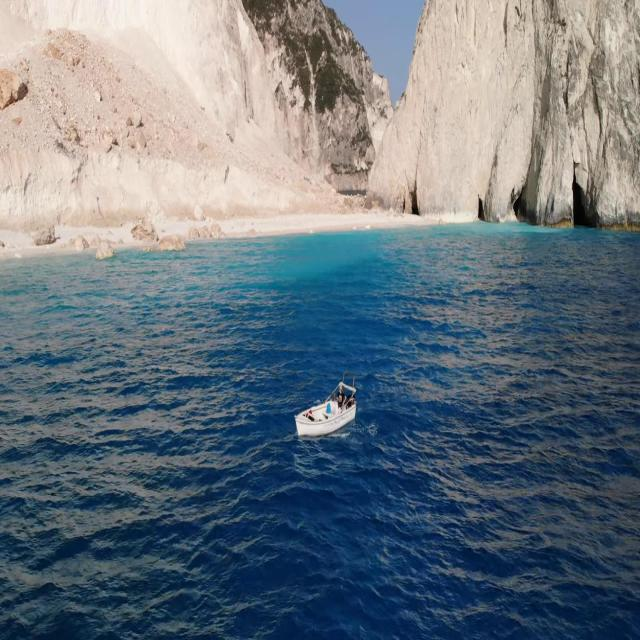boat: (301, 381, 359, 443)
